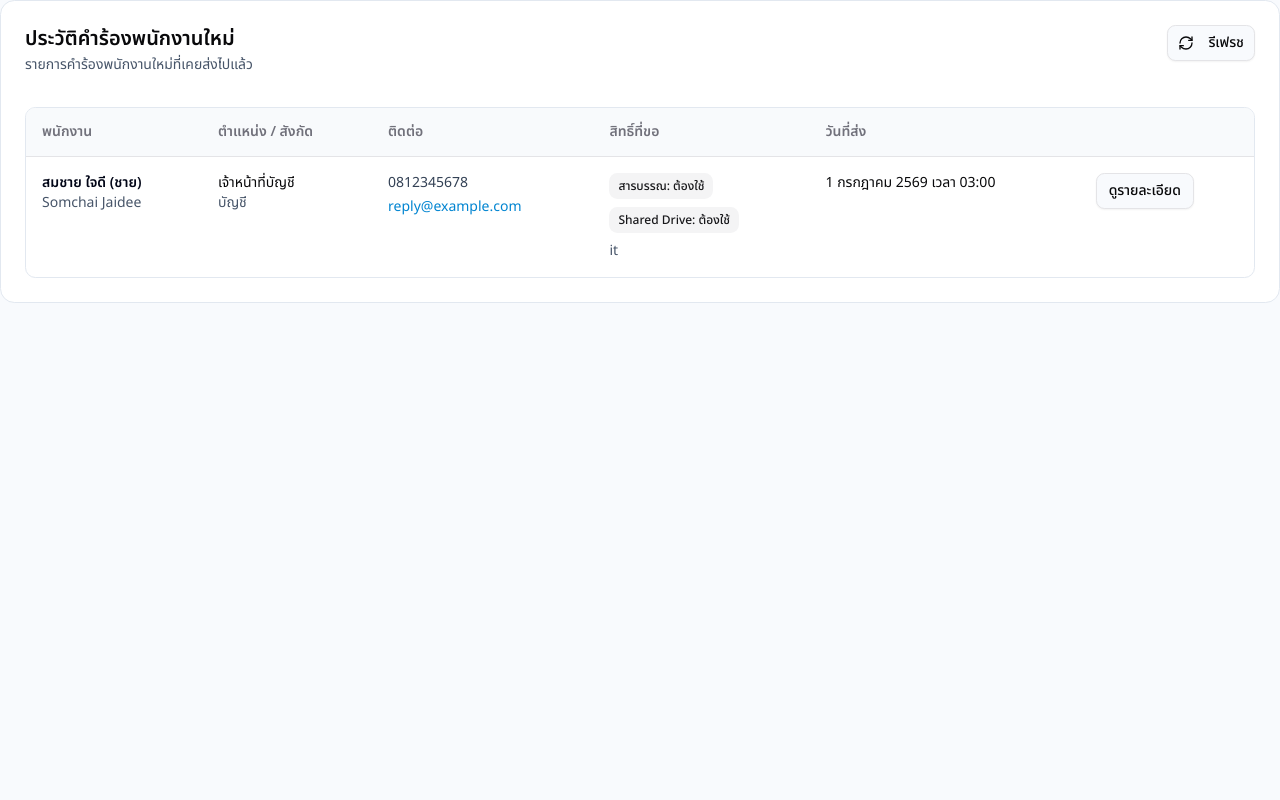
EmailRequestHistory › opens complete detail from desktop and offers one coherent editor
Click the button "ดูรายละเอียด".
click(1145, 190)  # box left=1096, top=172, right=1194, bottom=208
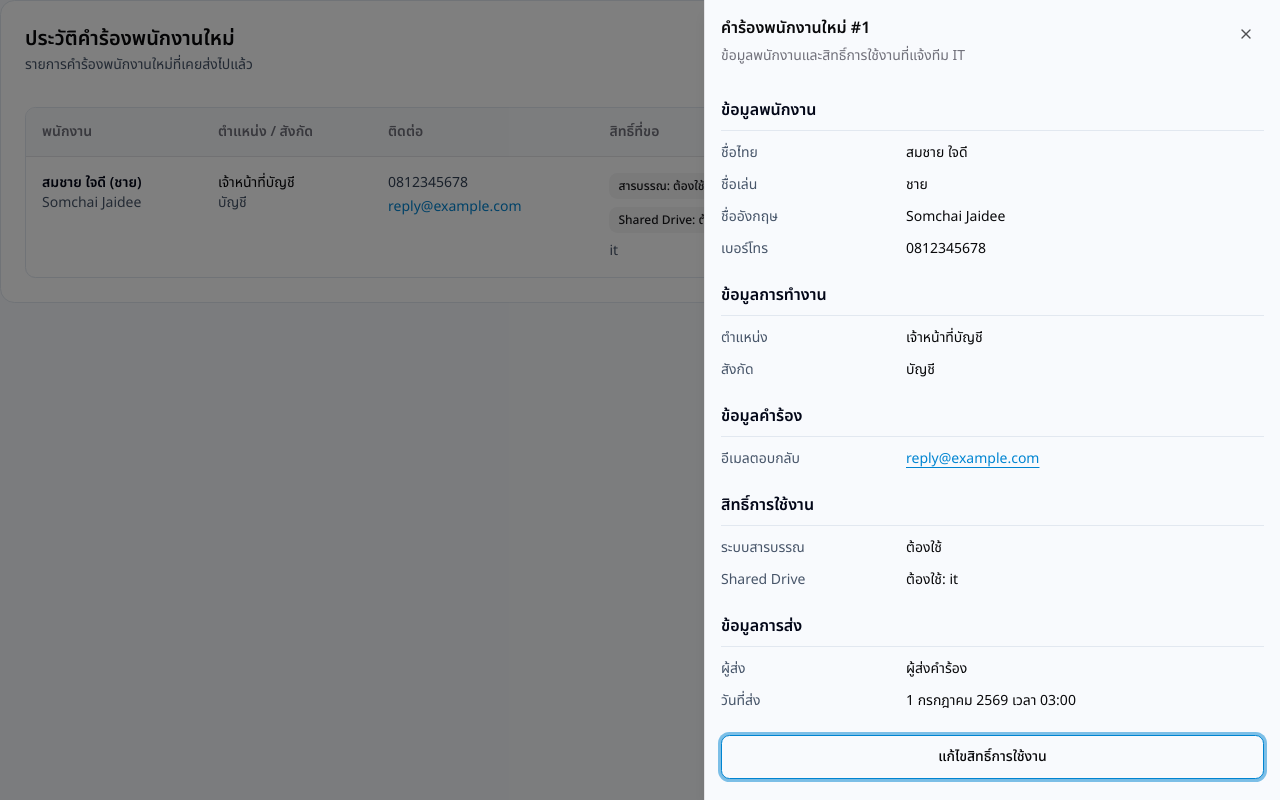
Check: the heading "คำร้องพนักงานใหม่ #1" is shown, box left=721, top=16, right=870, bottom=40
Check: the text "สมชาย ใจดี" is shown, box left=906, top=142, right=968, bottom=163
Check: the text "ชาย" is shown, box left=906, top=174, right=928, bottom=195
Click the button "แก้ไขสิทธิ์การใช้งาน".
click(992, 757)  # box left=721, top=735, right=1264, bottom=779
(page scrolled)
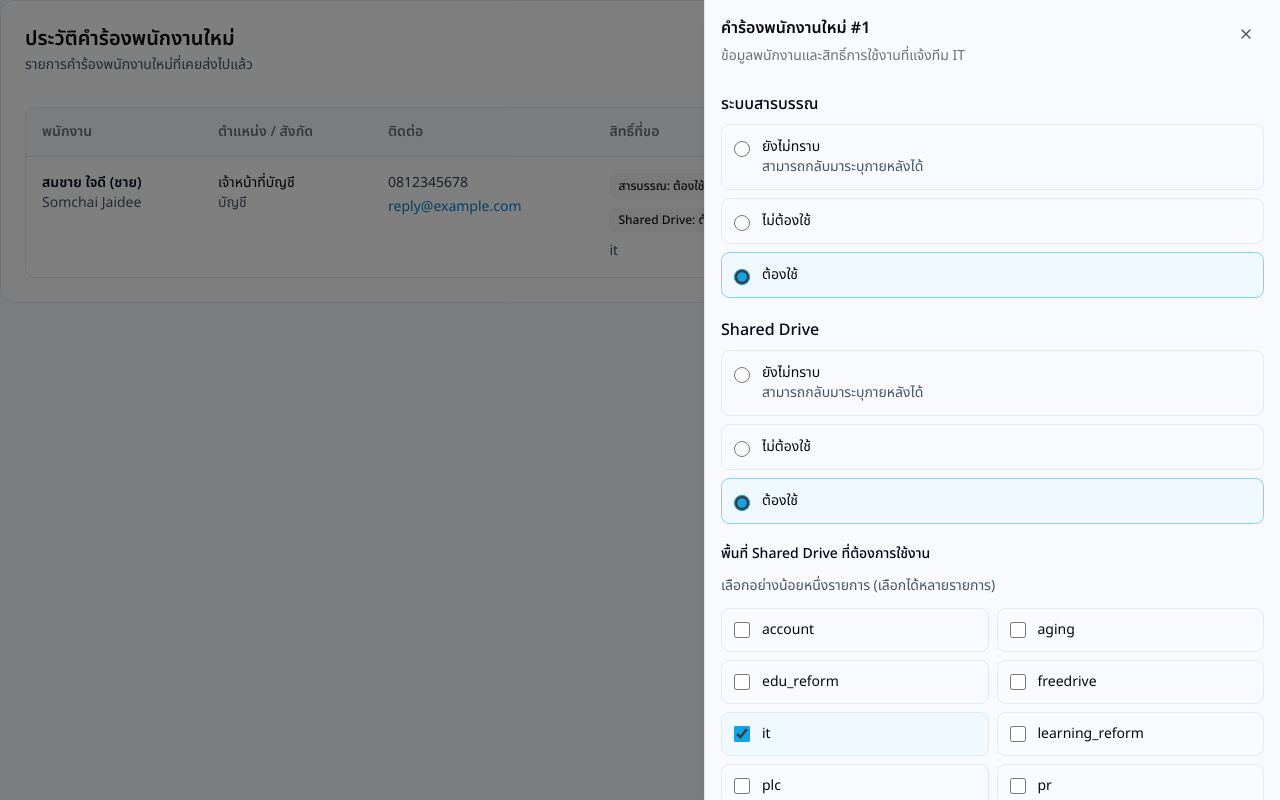
Check: the checkbox labelled "it" is checked, box left=734, top=726, right=750, bottom=742
Click the 2nd radio button labelled "ไม่ต้องใช้".
click(742, 449)  # box left=734, top=441, right=750, bottom=457
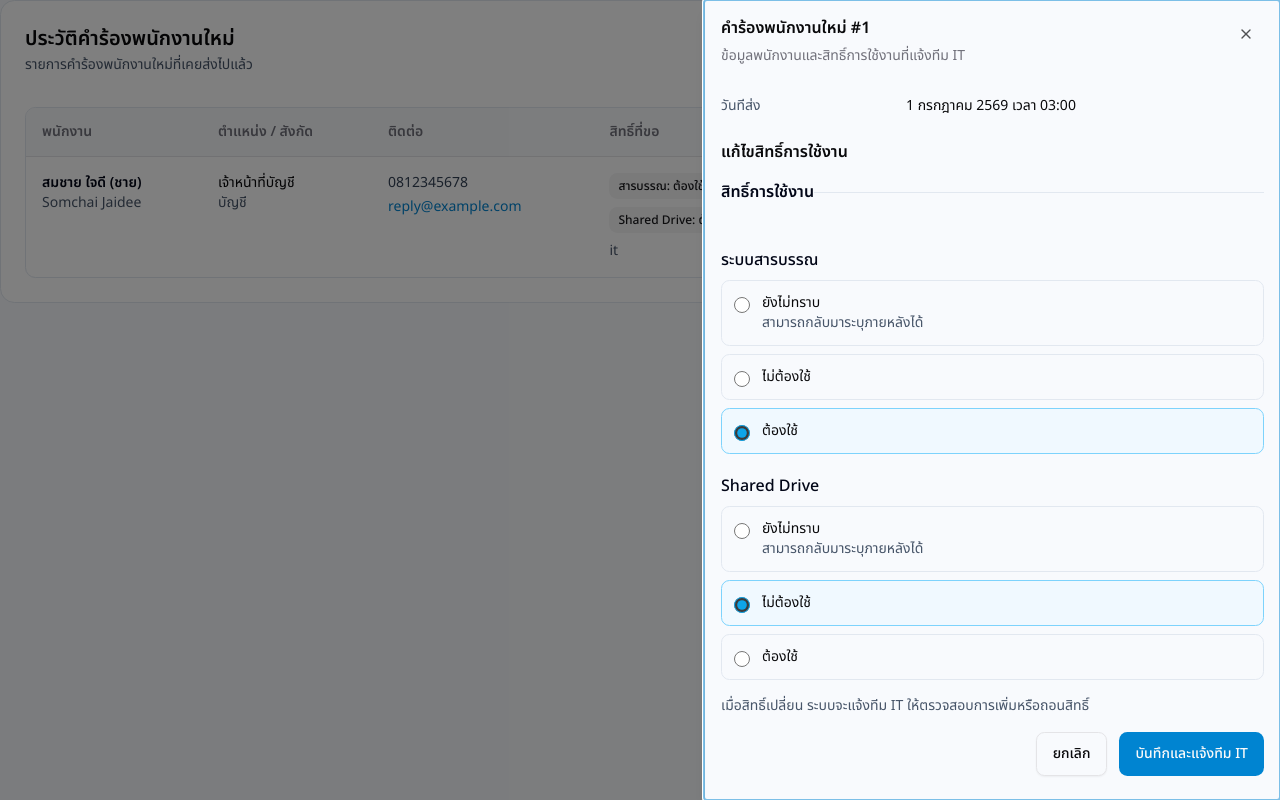
Check: the checkbox is gone
